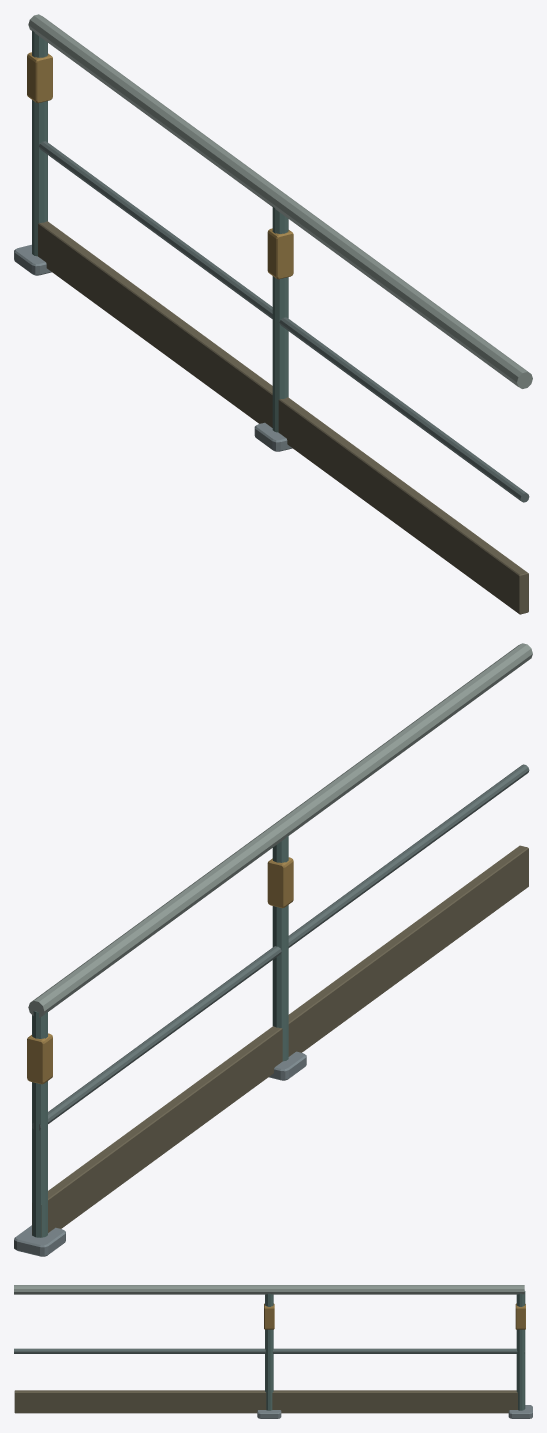
Rendered from HG-02_gallery_rail.glb.
3 views of the same model, one above another, from view 1: azimuth 30°, elevation 25°; view 2: azimuth 150°, elevation 25°; view 3: azimuth 270°, elevation 25° (orthographic). The views are drawn at different scales.
Parts seen in each view (by area): view 1: HG-02_gallery_rail; view 2: HG-02_gallery_rail; view 3: HG-02_gallery_rail.
Boxes of the visible parts, x1,y1,x2,y2 form: HG-02_gallery_rail: (14, 14, 532, 614); HG-02_gallery_rail: (14, 643, 532, 1256); HG-02_gallery_rail: (14, 1285, 532, 1418).
Bounding box in the file's own units: 0.16 × 1.12 × 4.07.
